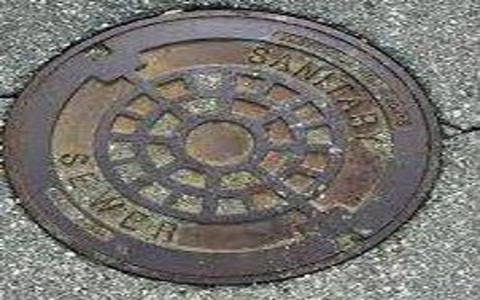proper manhole: (1, 1, 443, 290)
